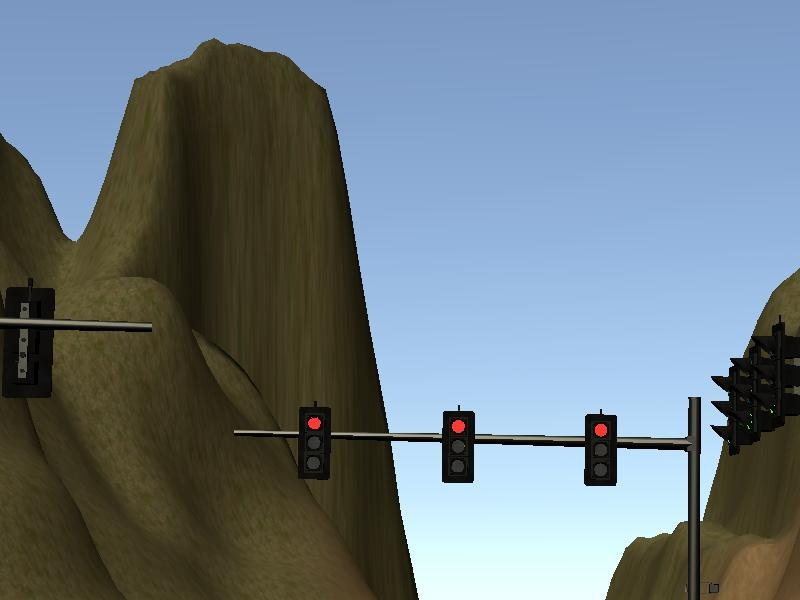red: (577, 406, 623, 492), (436, 402, 479, 489), (291, 400, 336, 483)
